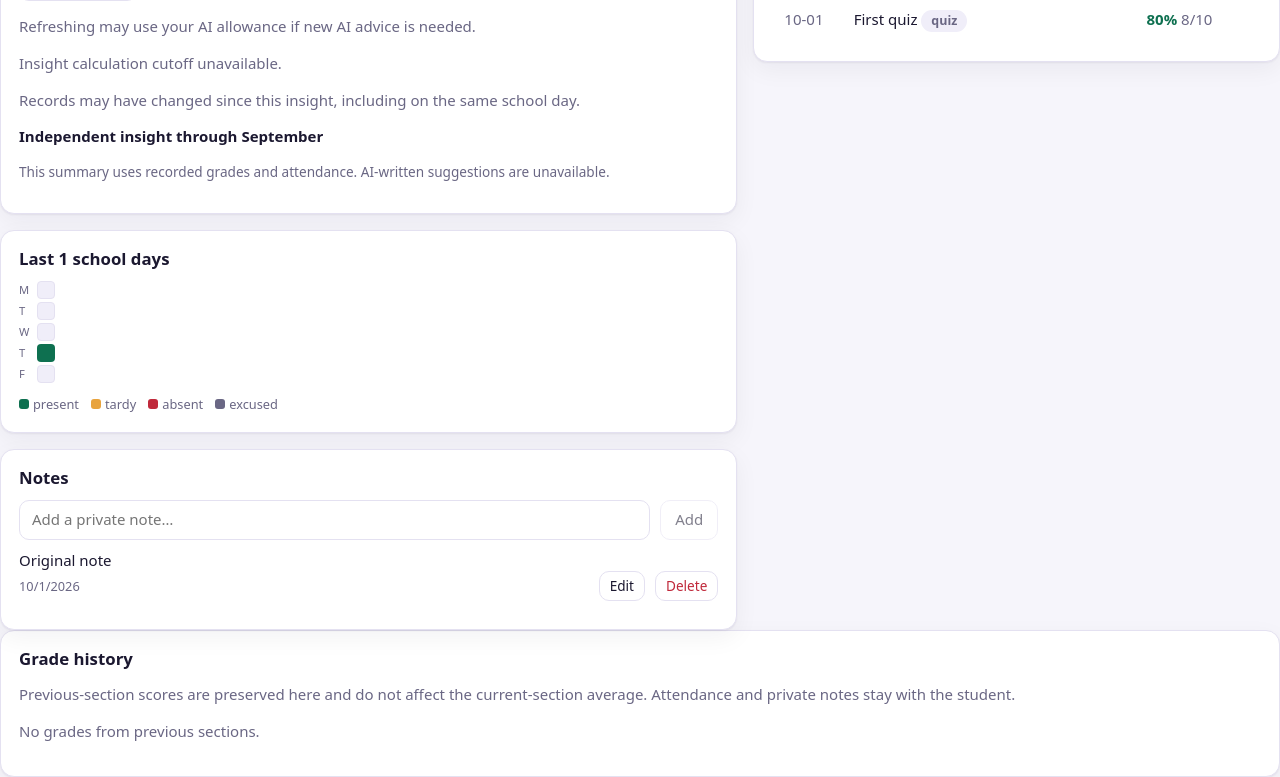
it: retains the actual notes editor DOM and drafts after an ordinary background read failure
The image size is (1280, 777).
(page scrolled)
Type "Keep new note" into the field named "New note" at (335, 520), box [19,500,650,540]
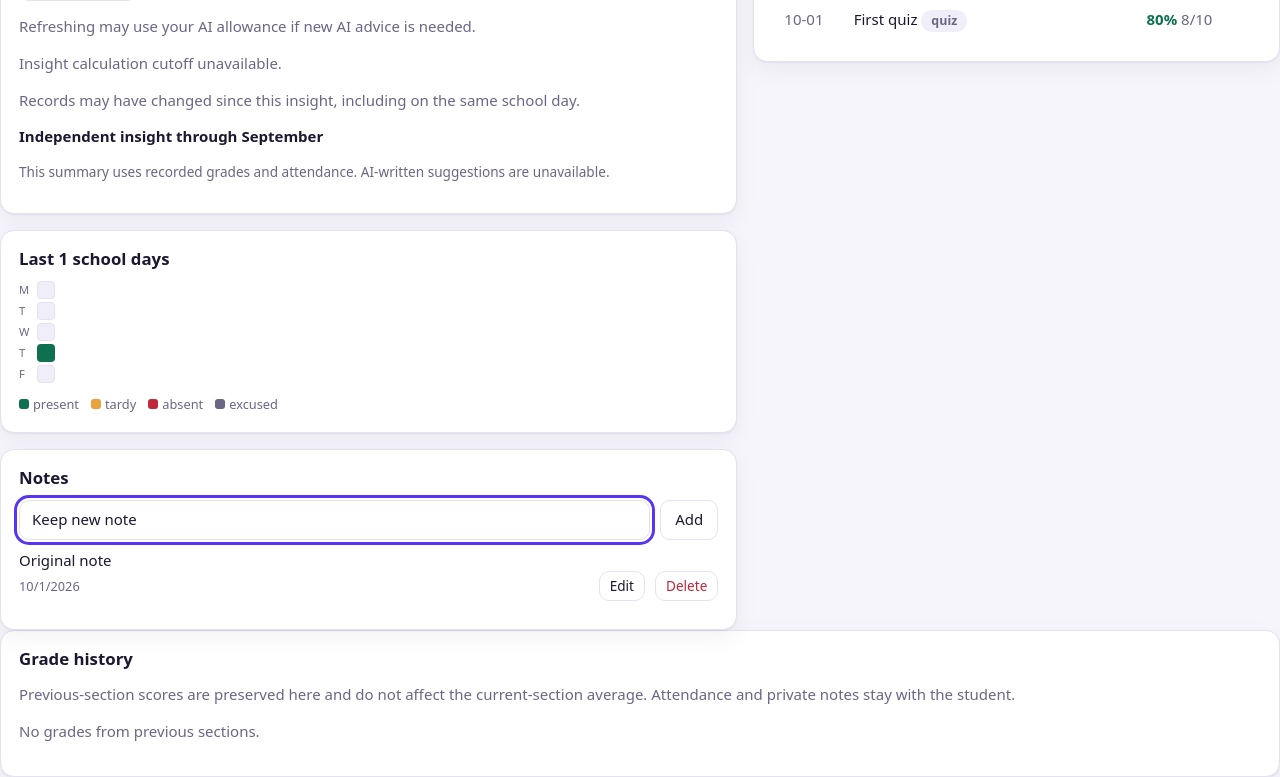
Click the button with aria-label "Edit note: Original note" at (622, 586), box [599,571,645,601]
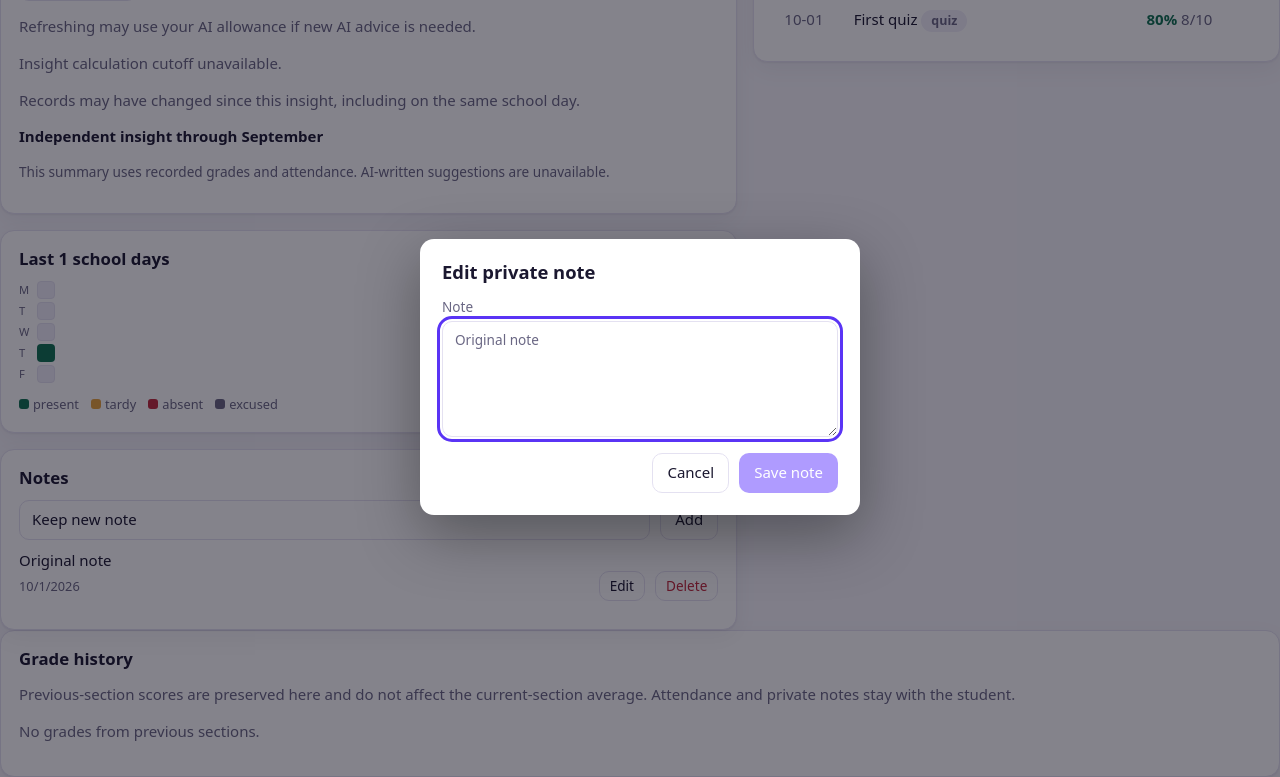
Replace the text in the text box labelled "Note" with "Keep edit note" at (640, 379), box [442,321,838,437]
(page scrolled)
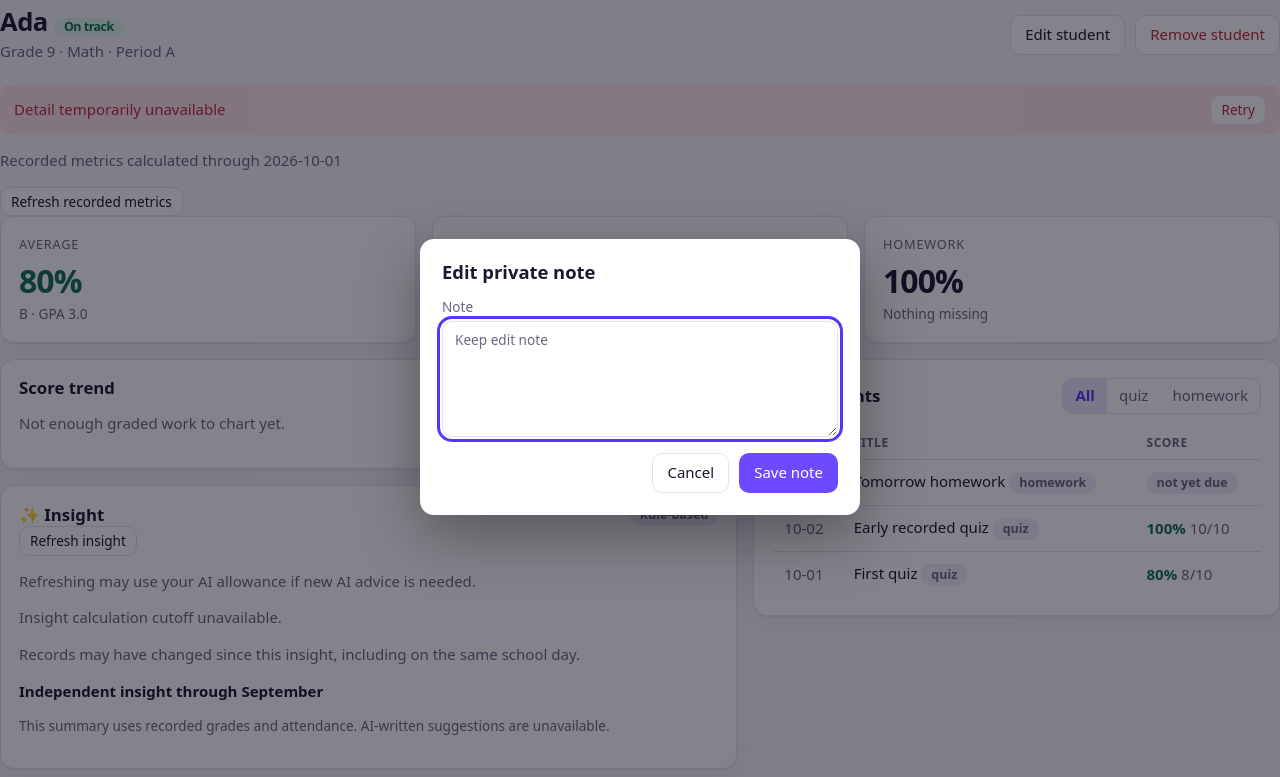
Expected: the text "Average" shows "80%", [19,259,82,302]
Now the text "Detail temporarily unavailable" is shown, box [14,99,226,121]
Now the button "Retry" is shown, box [1210,95,1266,125]
